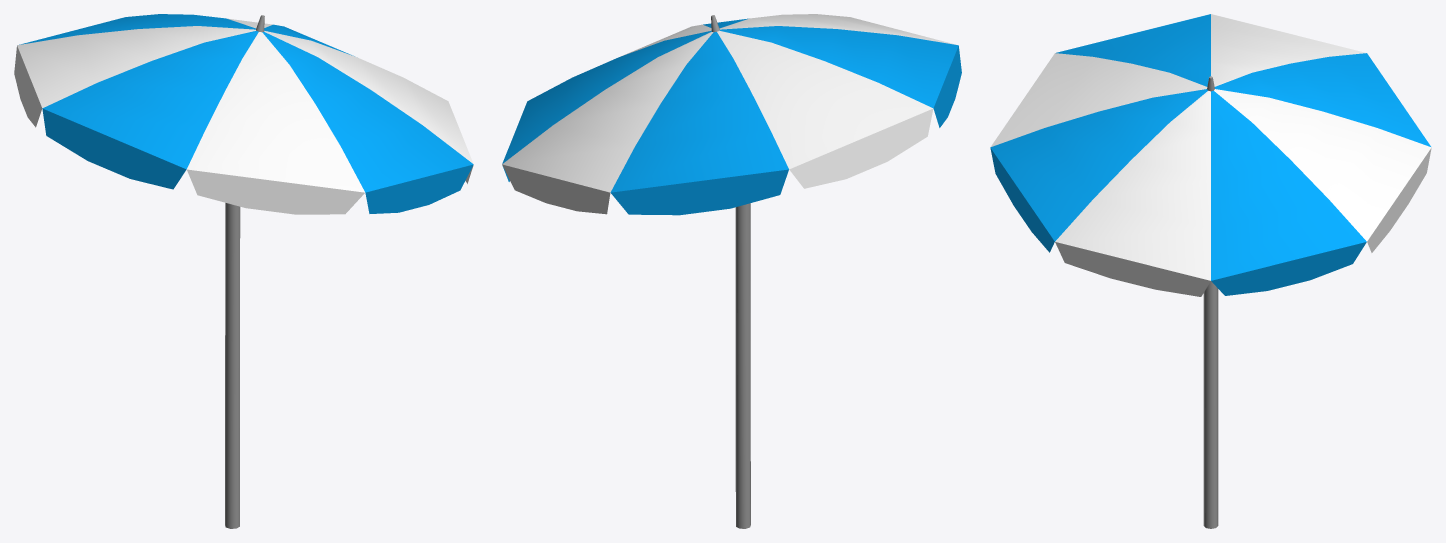
Rendered from Şemsiye.fbx.
The picture shows the model from 3 angles, left to right: view 1: azimuth 30°, elevation 25°; view 2: azimuth 150°, elevation 25°; view 3: azimuth 270°, elevation 25°; orthographic projection. The views are drawn at different scales.
Visible parts, largest first — view 1: umbrella; view 2: umbrella; view 3: umbrella.
Part boxes in pixels (x1,y1,x2,y2): umbrella: (14, 14, 473, 528); umbrella: (502, 14, 961, 528); umbrella: (990, 14, 1431, 528).
Size of the model in its own units: 662 by 782 by 676.
